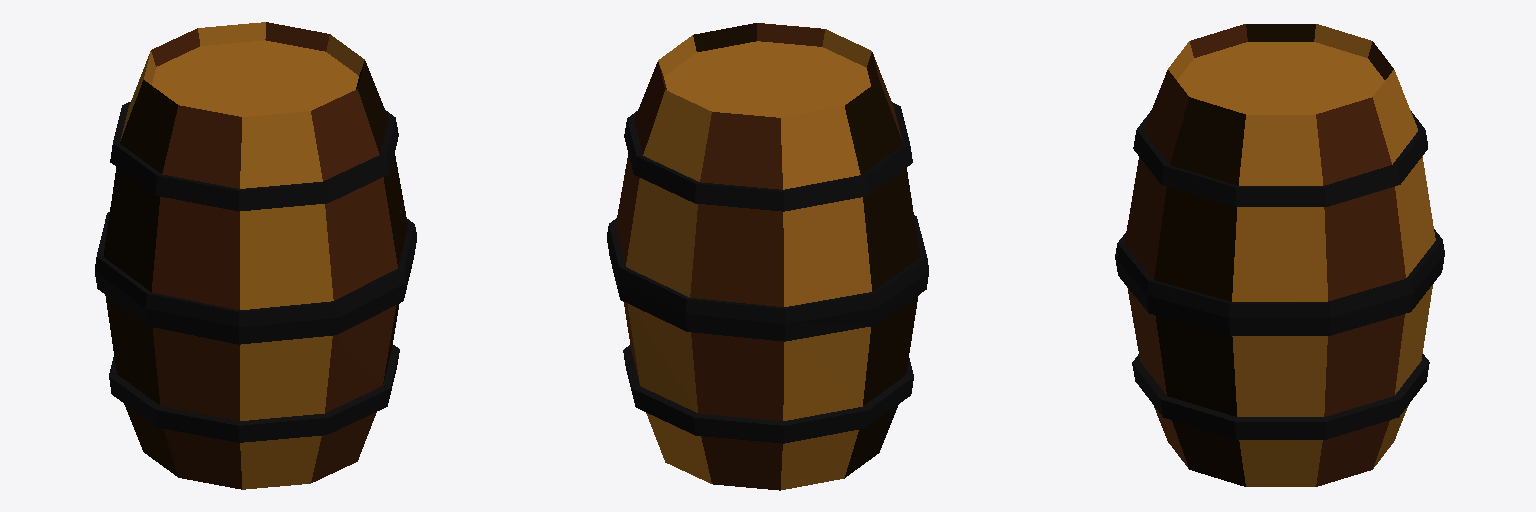
Rendered from Tonneau.obj.
3 renders of one model, left to right at view 1: azimuth 30°, elevation 25°; view 2: azimuth 150°, elevation 25°; view 3: azimuth 270°, elevation 25°, orthographic.
Parts seen in each view (by area): view 1: Cylinder.023; view 2: Cylinder.023; view 3: Cylinder.023.
Part boxes in pixels (x1,y1,x2,y2): Cylinder.023: (95, 22, 416, 489); Cylinder.023: (607, 23, 928, 490); Cylinder.023: (1115, 24, 1444, 486).
Size of the model in its own units: 2.28 by 2.99 by 2.4.